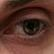eye: (24, 20, 39, 34)
